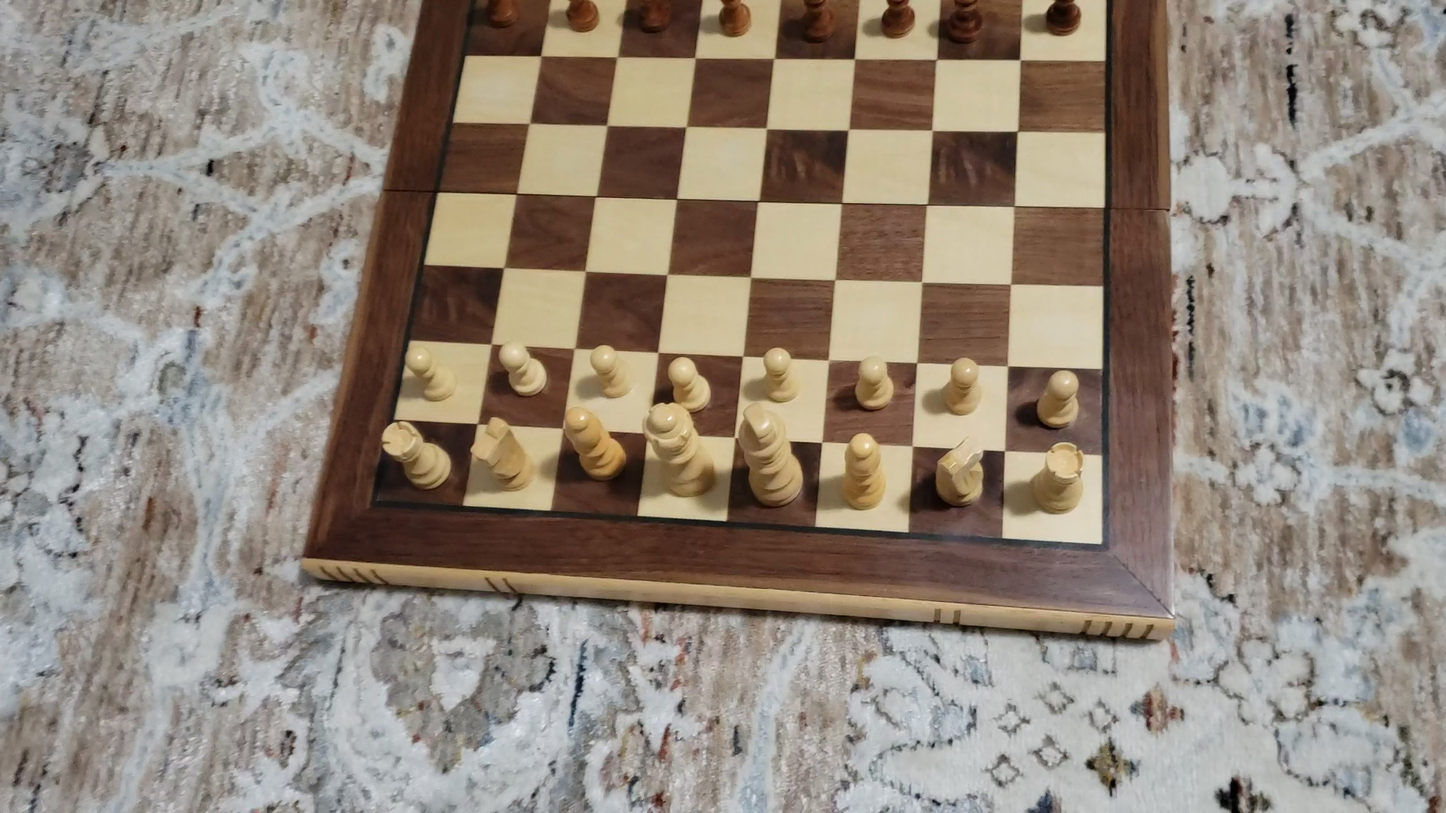black-pawn: (942, 0, 983, 44), (1044, 0, 1082, 36), (800, 0, 831, 43), (717, 0, 751, 38), (879, 1, 913, 39), (567, 0, 599, 32), (485, 0, 519, 29)
white-bishop: (560, 406, 629, 483), (839, 430, 890, 515)
white-king: (734, 400, 807, 512)
white-knight: (471, 414, 538, 495), (929, 432, 988, 511)
white-pawn: (402, 342, 459, 405), (496, 339, 551, 399), (1033, 368, 1083, 432), (664, 353, 713, 415), (586, 339, 633, 401), (942, 353, 986, 418), (850, 352, 896, 413), (760, 343, 802, 405)
white-queen: (641, 401, 721, 502)
white-rook: (380, 419, 451, 491), (1029, 440, 1088, 517)
